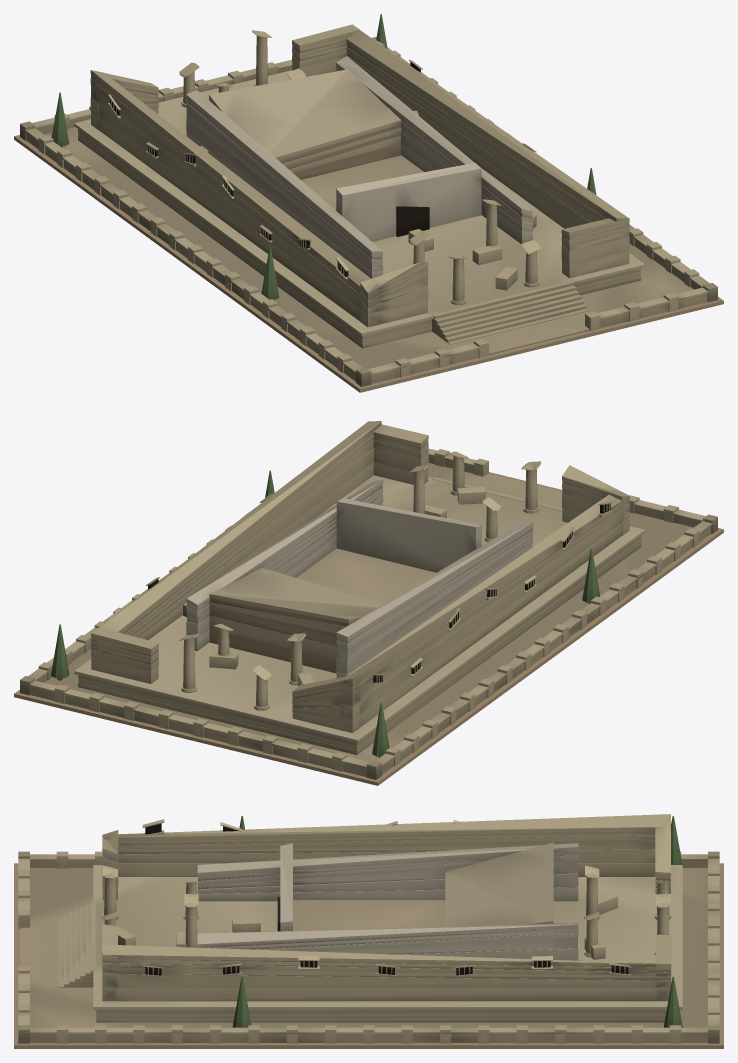
The model's file is jandial-ruin.glb.
3 views of the same model, one above another, from view 1: azimuth 30°, elevation 25°; view 2: azimuth 150°, elevation 25°; view 3: azimuth 270°, elevation 25° (orthographic). The views are drawn at different scales.
Visible parts, largest first — view 1: p1_walls and columns, p0_plinth, p2_fallen columns; view 2: p1_walls and columns, p0_plinth, p2_fallen columns; view 3: p1_walls and columns, p0_plinth, p2_fallen columns.
Part boxes in pixels (x1,y1,x2,y2): p1_walls and columns: (90,24,629,327); p0_plinth: (14,14,723,392); p2_fallen columns: (200,110,536,290); p1_walls and columns: (91,421,629,733); p0_plinth: (14,448,723,785); p2_fallen columns: (183,487,485,685); p1_walls and columns: (101,814,671,1001); p0_plinth: (14,816,723,1048); p2_fallen columns: (118,892,617,959).
Bounding box in the file's own units: 34 × 7.02 × 56.
